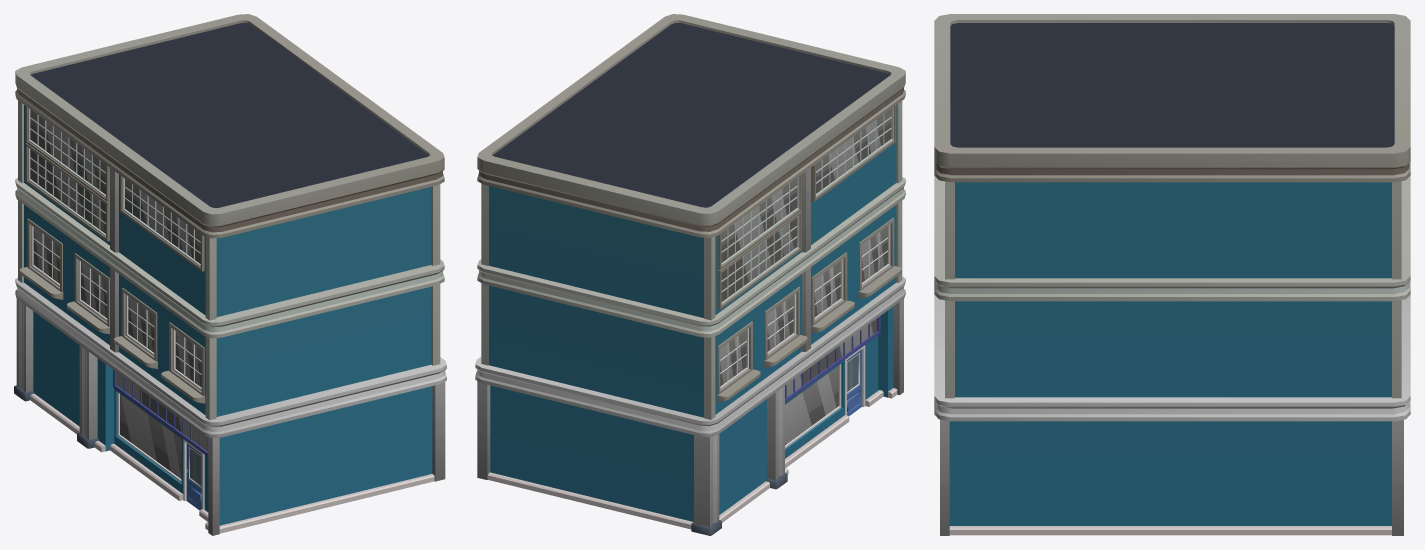
File: Building_11_1_A.fbx
The picture shows the model from 3 angles, left to right: view 1: azimuth 30°, elevation 25°; view 2: azimuth 150°, elevation 25°; view 3: azimuth 270°, elevation 25°; orthographic projection. The views are drawn at different scales.
Visible parts, largest first — view 1: Building_11_1_A; view 2: Building_11_1_A; view 3: Building_11_1_A.
Part boxes in pixels (x1,y1,x2,y2): Building_11_1_A: (14,14,446,535); Building_11_1_A: (475,14,905,535); Building_11_1_A: (934,14,1410,535).
Bounding box in the file's own units: 827 × 1034 × 1163.
